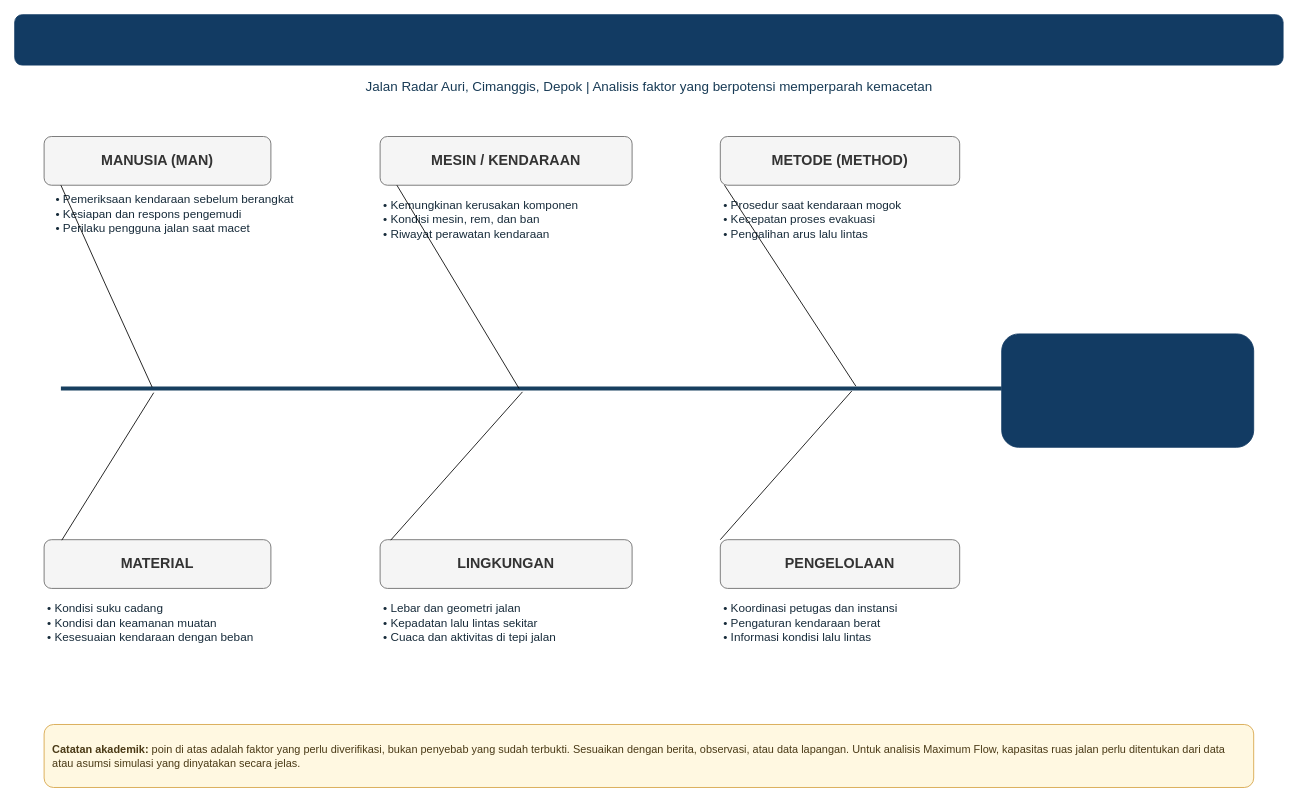
Image size: 1298x802. Some labels were removed from this diagram. Each missing label, with the centre of its shape:
DAMPAK UTAMA Kemacetan lalu lintas akibat truk kontainer mogok: (1127,390)
DIAGRAM FISHBONE: KASUS TRUK KONTAINER MOGOK: (648,39)
